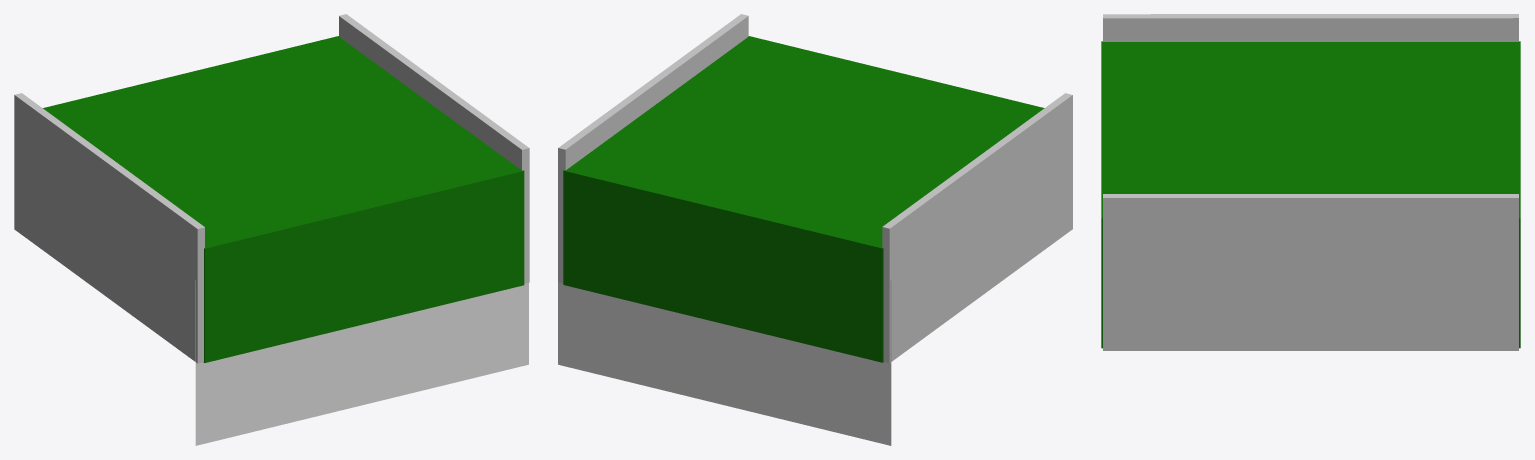
Rendered from raised.gltf.
3 renders of one model, left to right at view 1: azimuth 30°, elevation 25°; view 2: azimuth 150°, elevation 25°; view 3: azimuth 270°, elevation 25°, orthographic. The views are drawn at different scales.
Parts seen in each view (by area): view 1: Cube, obj_snap, Cube.001, Cube.002; view 2: Cube, obj_snap.001, Cube.001, Cube.002; view 3: Cube.002, Cube, Cube.001.
Boxes of the visible parts, bbox=[...] form: Cube: bbox=[43, 36, 524, 362]; obj_snap: bbox=[195, 280, 528, 445]; Cube.001: bbox=[14, 93, 204, 363]; Cube.002: bbox=[339, 14, 529, 283]; Cube: bbox=[563, 36, 1044, 362]; obj_snap.001: bbox=[558, 280, 891, 445]; Cube.001: bbox=[882, 93, 1072, 363]; Cube.002: bbox=[558, 14, 748, 283]; Cube.002: bbox=[1103, 194, 1518, 350]; Cube: bbox=[1101, 41, 1520, 348]; Cube.001: bbox=[1103, 14, 1518, 41].
Bounding box in the file's own units: 4.21 × 2.63 × 4.04.
